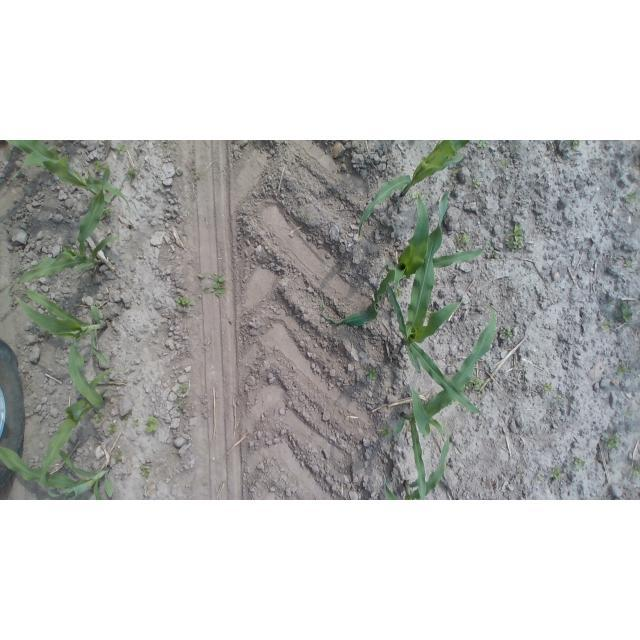Maize: (385, 188, 482, 414), (321, 195, 482, 329), (394, 302, 499, 498), (4, 141, 132, 259), (10, 288, 111, 410), (8, 189, 118, 296), (39, 369, 120, 499), (359, 140, 471, 234), (1, 444, 116, 500), (383, 432, 449, 501)
Weeds: (199, 271, 229, 299), (504, 220, 525, 249), (615, 301, 634, 324), (175, 296, 196, 312), (143, 415, 159, 433), (604, 434, 622, 450), (455, 232, 472, 248), (466, 377, 485, 390), (408, 190, 424, 205), (114, 141, 129, 156), (92, 409, 105, 424), (365, 367, 380, 380), (93, 160, 106, 173), (128, 167, 140, 181), (501, 327, 513, 341), (552, 464, 561, 480), (176, 383, 189, 394), (625, 192, 638, 203), (567, 140, 580, 150), (500, 158, 513, 168), (575, 457, 586, 468), (140, 464, 150, 476), (176, 399, 185, 412), (107, 423, 116, 436), (601, 322, 614, 331), (112, 453, 122, 464), (617, 363, 628, 373), (395, 287, 405, 298), (441, 419, 450, 431), (632, 464, 640, 477), (104, 206, 113, 217), (380, 427, 391, 436), (544, 383, 553, 392), (514, 145, 522, 155), (476, 140, 486, 148), (606, 297, 615, 305), (472, 179, 480, 188), (624, 260, 632, 268), (449, 167, 459, 173), (485, 245, 493, 252), (132, 419, 139, 427), (536, 476, 544, 483), (556, 396, 564, 403), (491, 253, 499, 260), (194, 172, 200, 180), (624, 412, 632, 416), (8, 151, 13, 157), (453, 400, 459, 405), (520, 470, 525, 476), (124, 413, 128, 420), (28, 384, 33, 389), (44, 220, 49, 225), (20, 170, 25, 173), (166, 154, 170, 157)
